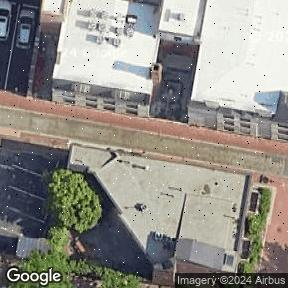vegetation: (11, 169, 140, 288), (237, 185, 272, 274)
